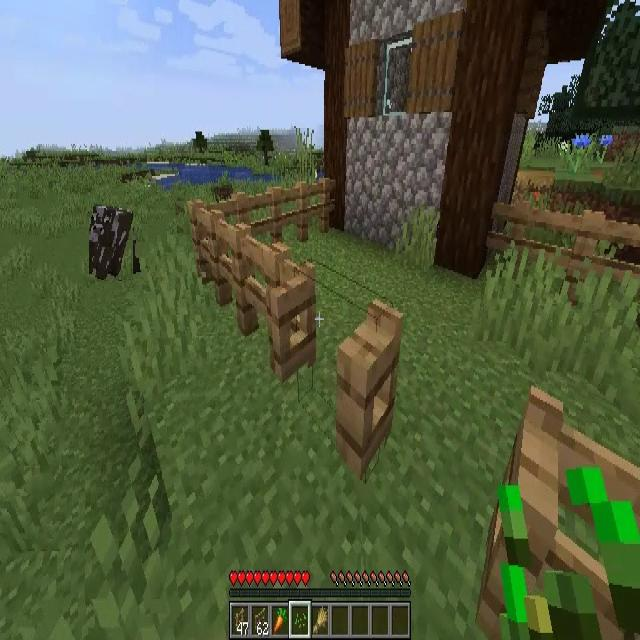cow: (90, 204, 134, 280)
